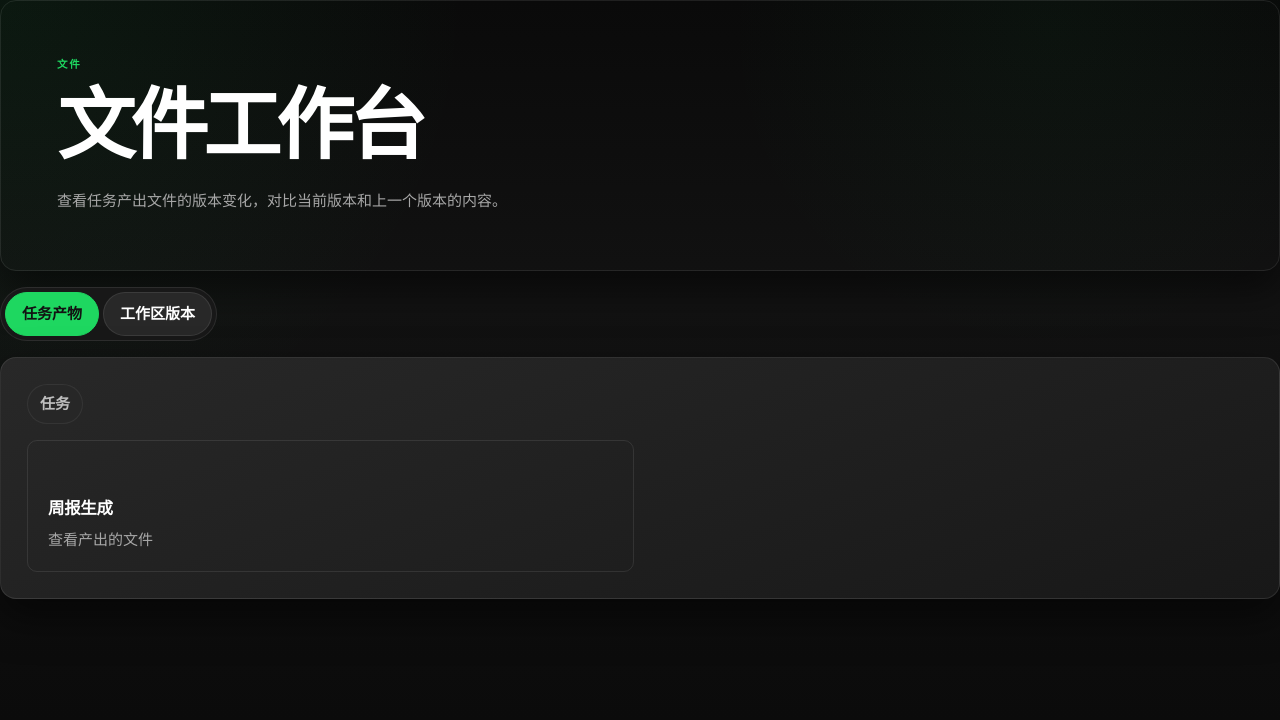
FilesCenter 两级导航 › 一级展示任务，点击进入二级文件，点击文件展示 diff
The image size is (1280, 720).
Step 1. Click the text "周报生成" → (80, 508), box [48,498,113,518]
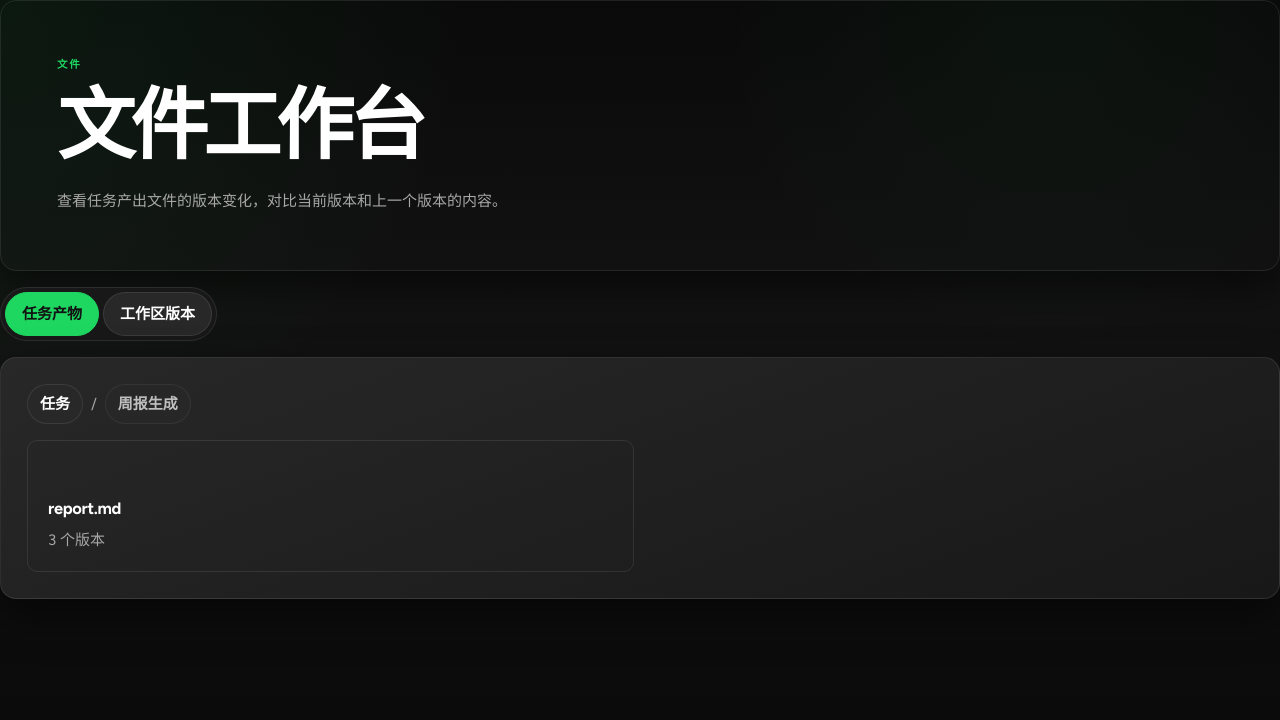
Check: the text "report.md" is shown
Check: the text "3 个版本" is shown, box [48,530,105,548]
Note: 进入 diff 详情
Step 2. Click the text "report.md" → (85, 508), box [48,498,121,518]
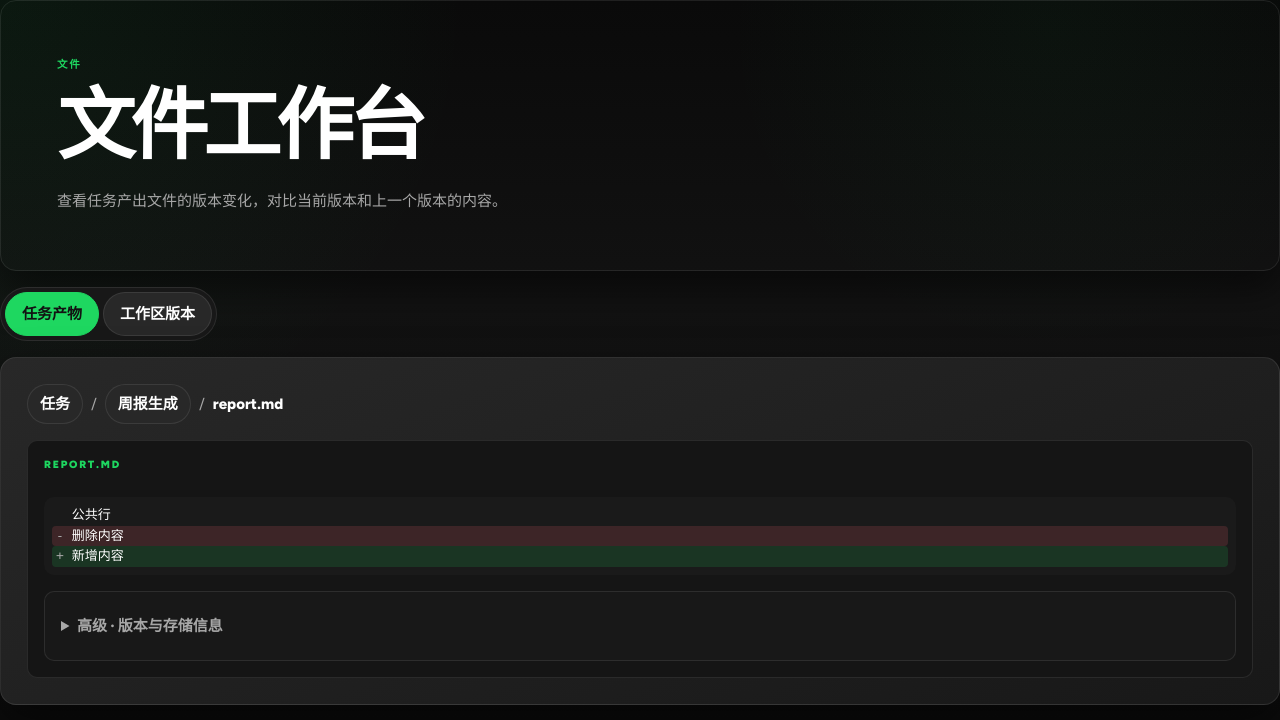
Check: the text "新增内容" is shown, box [72,548,124,563]
Check: the text "删除内容" is shown, box [72,528,124,542]
